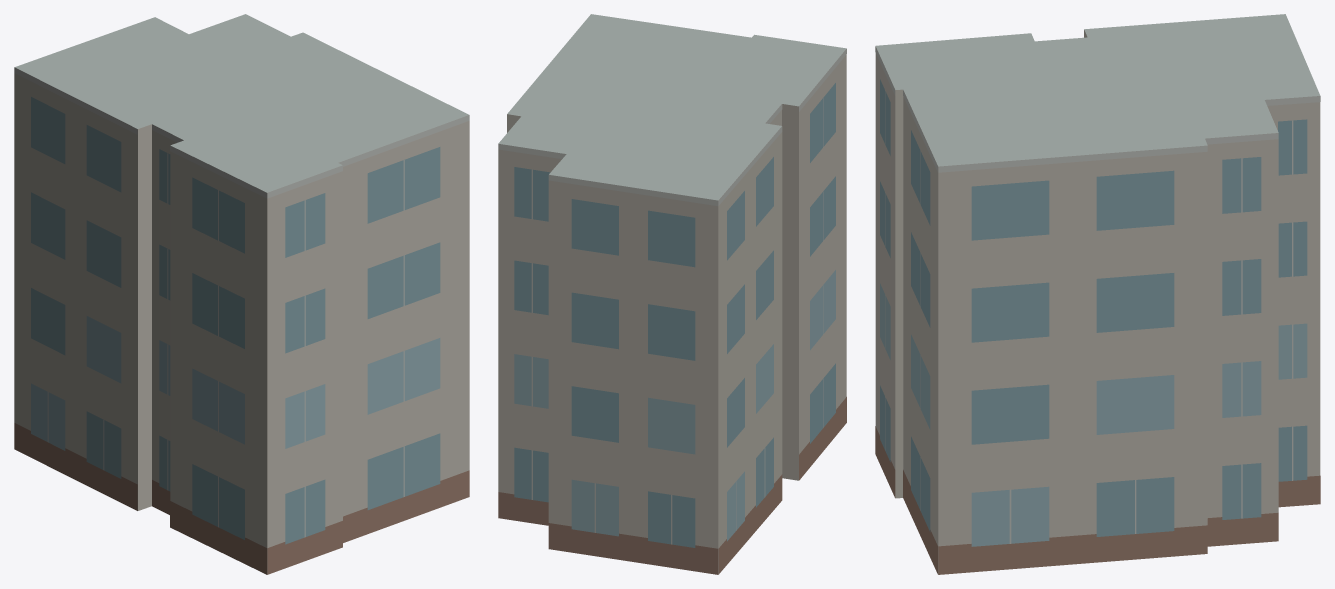
The model's file is survey-upis-32705559.glb.
3 renders of one model, left to right at view 1: azimuth 30°, elevation 25°; view 2: azimuth 150°, elevation 25°; view 3: azimuth 270°, elevation 25°, orthographic. The views are drawn at different scales.
Parts seen in each view (by area): view 1: survey-upis-32705559.tmp; view 2: survey-upis-32705559.tmp; view 3: survey-upis-32705559.tmp.
Boxes of the visible parts, x1=… form: survey-upis-32705559.tmp: x1=14, y1=14, x2=469, y2=574; survey-upis-32705559.tmp: x1=498, y1=14, x2=846, y2=574; survey-upis-32705559.tmp: x1=875, y1=14, x2=1320, y2=574.
Size of the model in its own units: 12.83 by 16 by 15.81.
